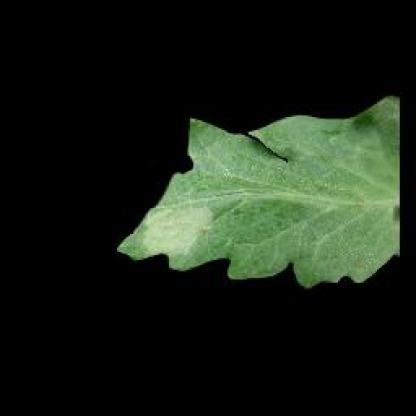good leaf: (97, 66, 415, 314)
